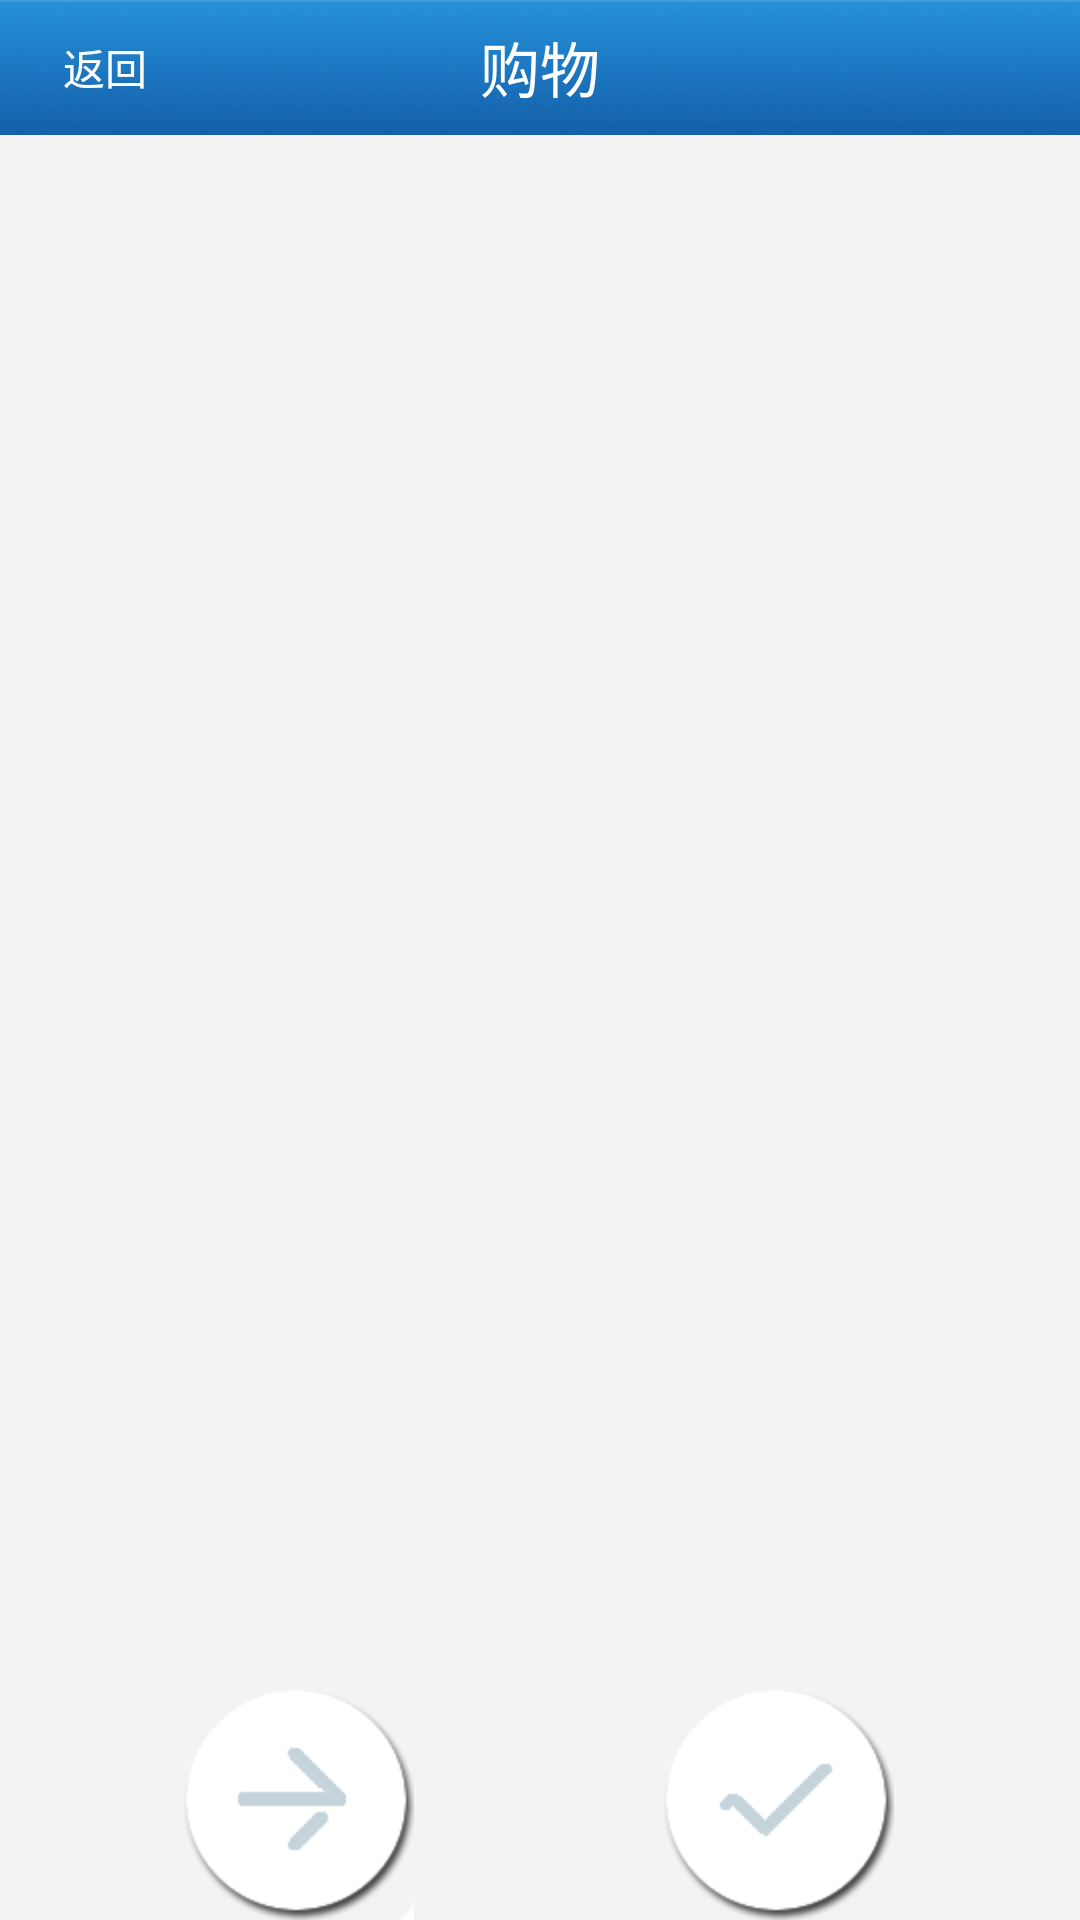

Named icons in this screenshot (1080 × 1920) and their bounding boxes, (x1, y1, x2, y2):
tabs confirm: (665, 1690, 894, 1920)
tabs next: (185, 1690, 414, 1920)
